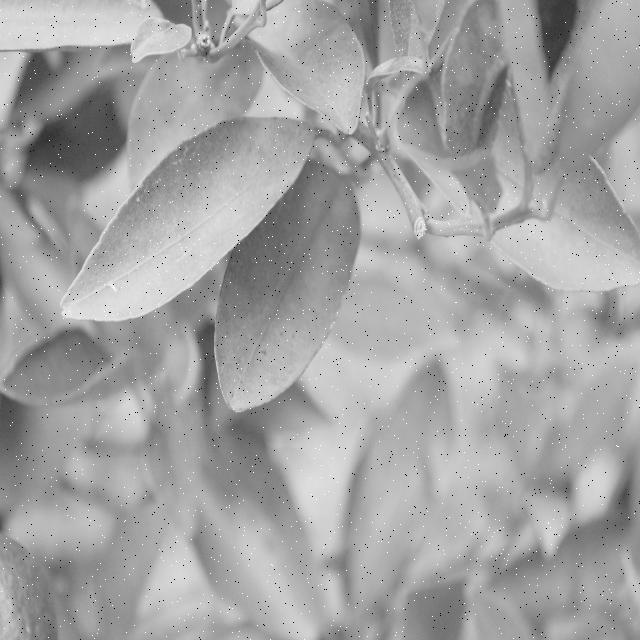blackspot: (218, 276, 305, 410)
